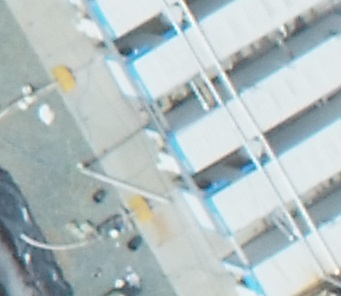opora: (74, 138, 176, 205)
